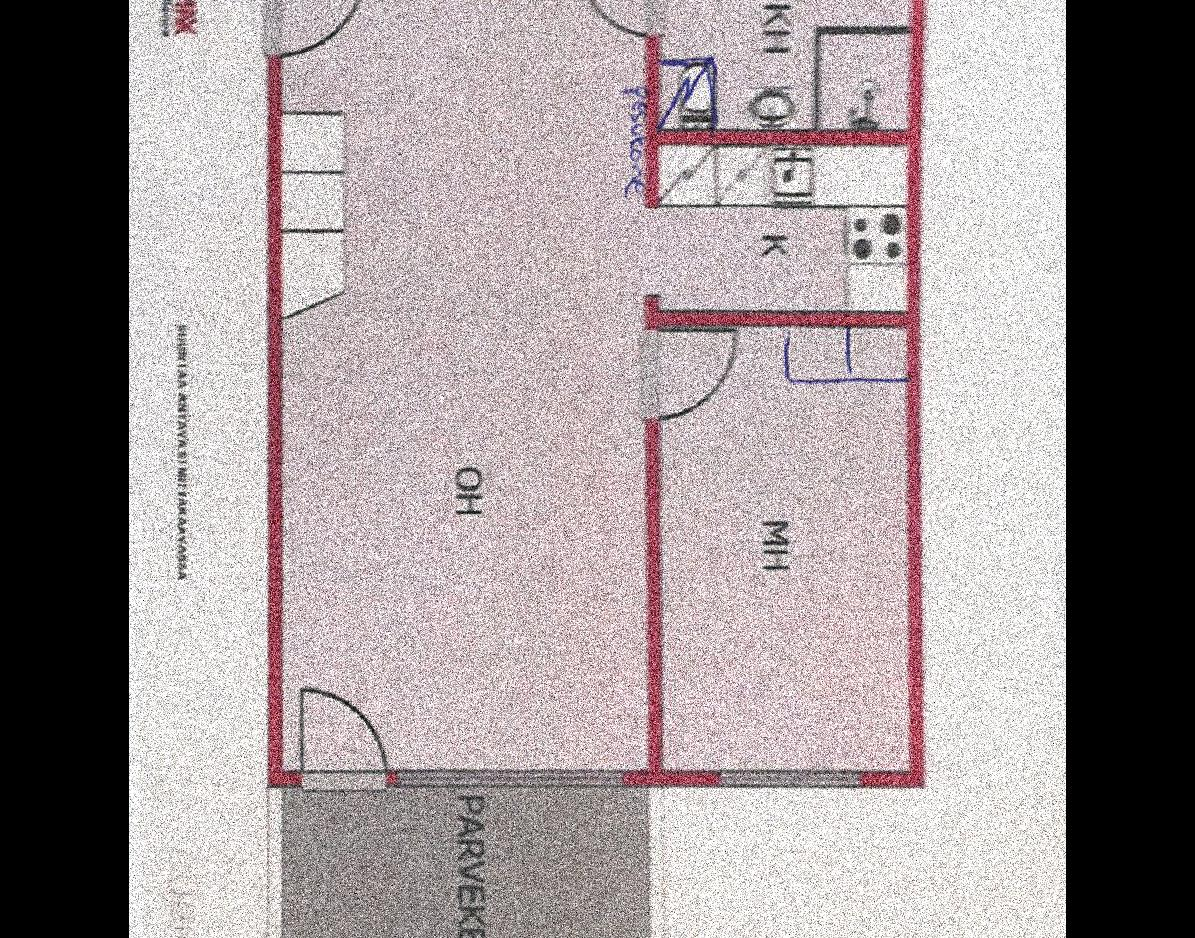door: (286, 0, 648, 765), (664, 330, 908, 768), (283, 786, 655, 938), (660, 0, 911, 125), (292, 668, 396, 806), (630, 326, 739, 426), (260, 0, 373, 64), (573, 0, 666, 41)
window: (402, 764, 626, 788), (718, 766, 862, 790)
zone: (642, 144, 912, 316)
